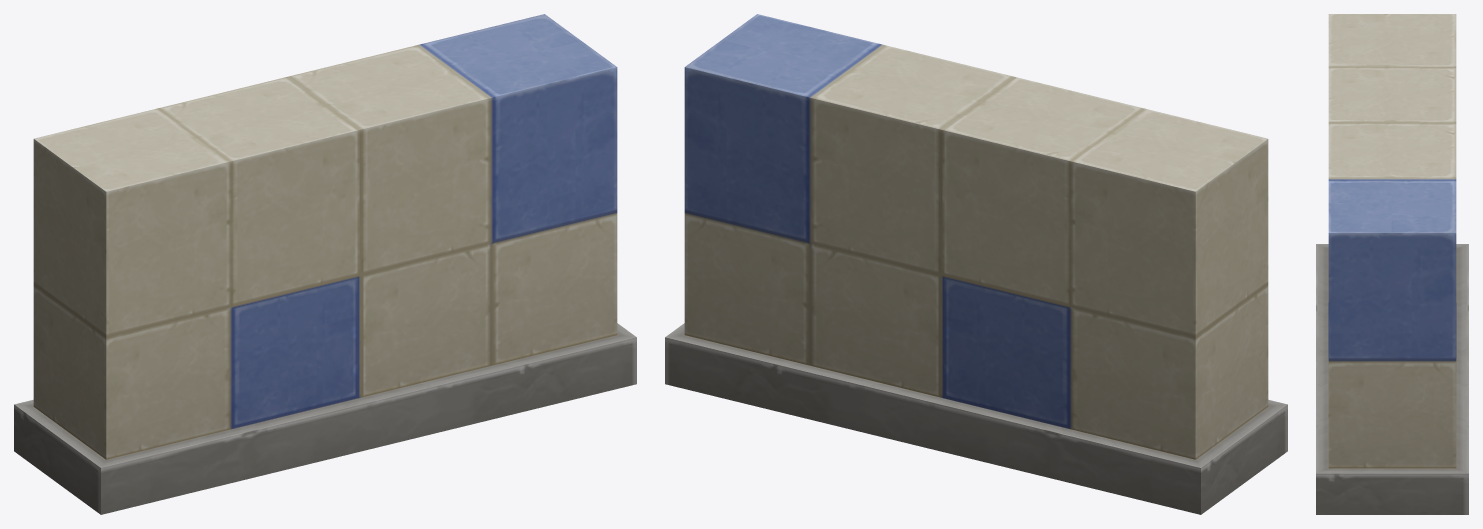
File: sc_wjgc_001_007.FBX
3 views of the same model, side by side, from view 1: azimuth 30°, elevation 25°; view 2: azimuth 150°, elevation 25°; view 3: azimuth 270°, elevation 25° (orthographic). The views are drawn at different scales.
Parts seen in each view (by area): view 1: sc_wjgc_001_007; view 2: sc_wjgc_001_007; view 3: sc_wjgc_001_007.
Part boxes in pixels (left/top/right/bottom): sc_wjgc_001_007: left=14, top=14, right=636, bottom=514; sc_wjgc_001_007: left=665, top=14, right=1287, bottom=514; sc_wjgc_001_007: left=1316, top=14, right=1468, bottom=514.
Size of the model in its own units: 8.38 by 4.7 by 2.35.
